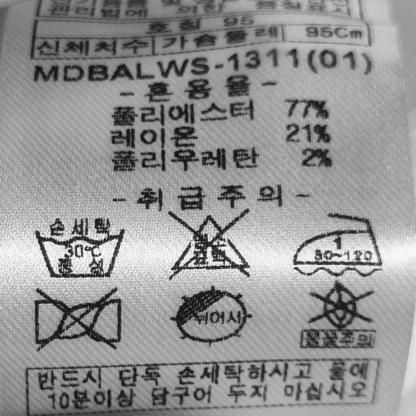KR_flat_dry_in_shade: (166, 279, 259, 352)
KR_hand_wash_30_neutral: (30, 212, 129, 287)
KR_iron_low_temp_with_cloth: (290, 207, 385, 282)
KR_no_chlorine_bleach: (159, 208, 260, 282)
KR_no_wring: (32, 288, 129, 354)
